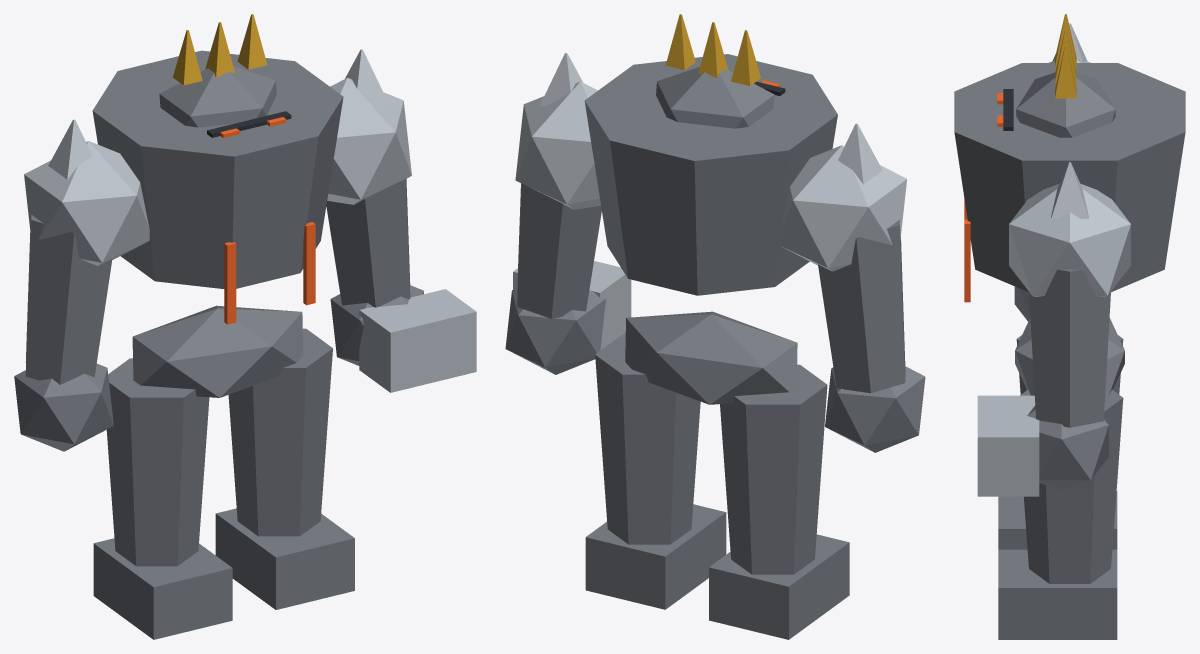
The model's file is npcpose_colossus_idle_00.glb.
3 views of the same model, side by side, from view 1: azimuth 30°, elevation 25°; view 2: azimuth 150°, elevation 25°; view 3: azimuth 270°, elevation 25° (orthographic). The views are drawn at different scales.
Parts seen in each view (by area): view 1: npcpose; view 2: npcpose; view 3: npcpose.
Part boxes in pixels (left/top/right/bottom): npcpose: left=14, top=14, right=476, bottom=639; npcpose: left=505, top=14, right=925, bottom=639; npcpose: left=954, top=14, right=1185, bottom=639.
Size of the model in its own units: 2.3 by 3.02 by 1.13.
